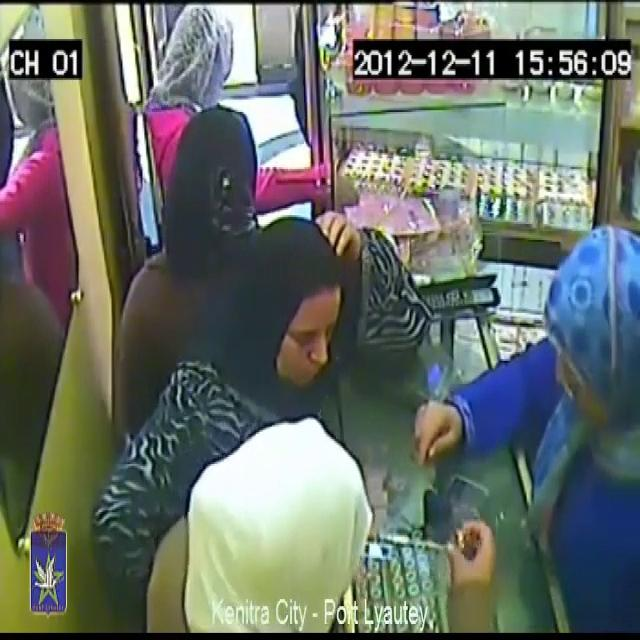Product: (449, 520, 474, 562)
normal: (464, 151, 640, 640), (137, 0, 409, 208), (244, 196, 368, 404), (172, 92, 267, 283)
shoplifting: (142, 410, 471, 640)
